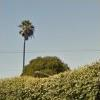Tree: (16, 15, 39, 55)
